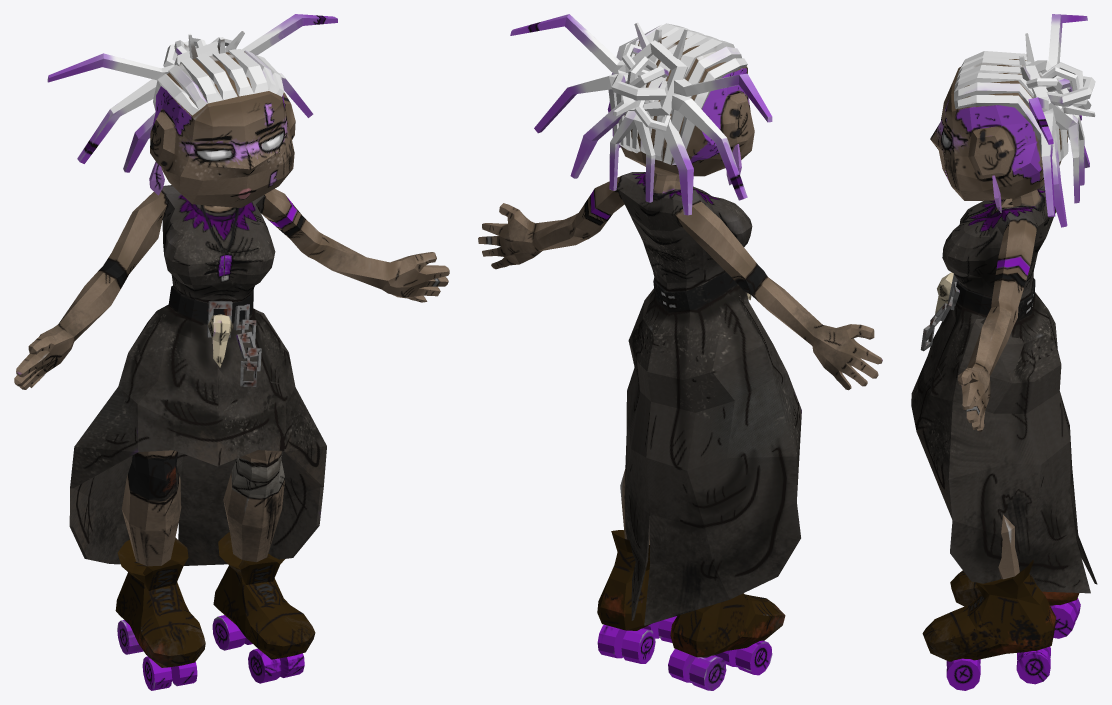
Rendered from bruja_000066.obj.
3 views of the same model, side by side, from view 1: azimuth 30°, elevation 25°; view 2: azimuth 150°, elevation 25°; view 3: azimuth 270°, elevation 25° (orthographic). The views are drawn at different scales.
Visible parts, largest first — view 1: Bruja_Plane.001; view 2: Bruja_Plane.001; view 3: Bruja_Plane.001.
Part boxes in pixels (x1,y1,x2,y2): Bruja_Plane.001: (14, 14, 449, 690); Bruja_Plane.001: (478, 14, 882, 690); Bruja_Plane.001: (911, 14, 1097, 690).
Bounding box in the file's own units: 11.26 × 16.49 × 4.47.
